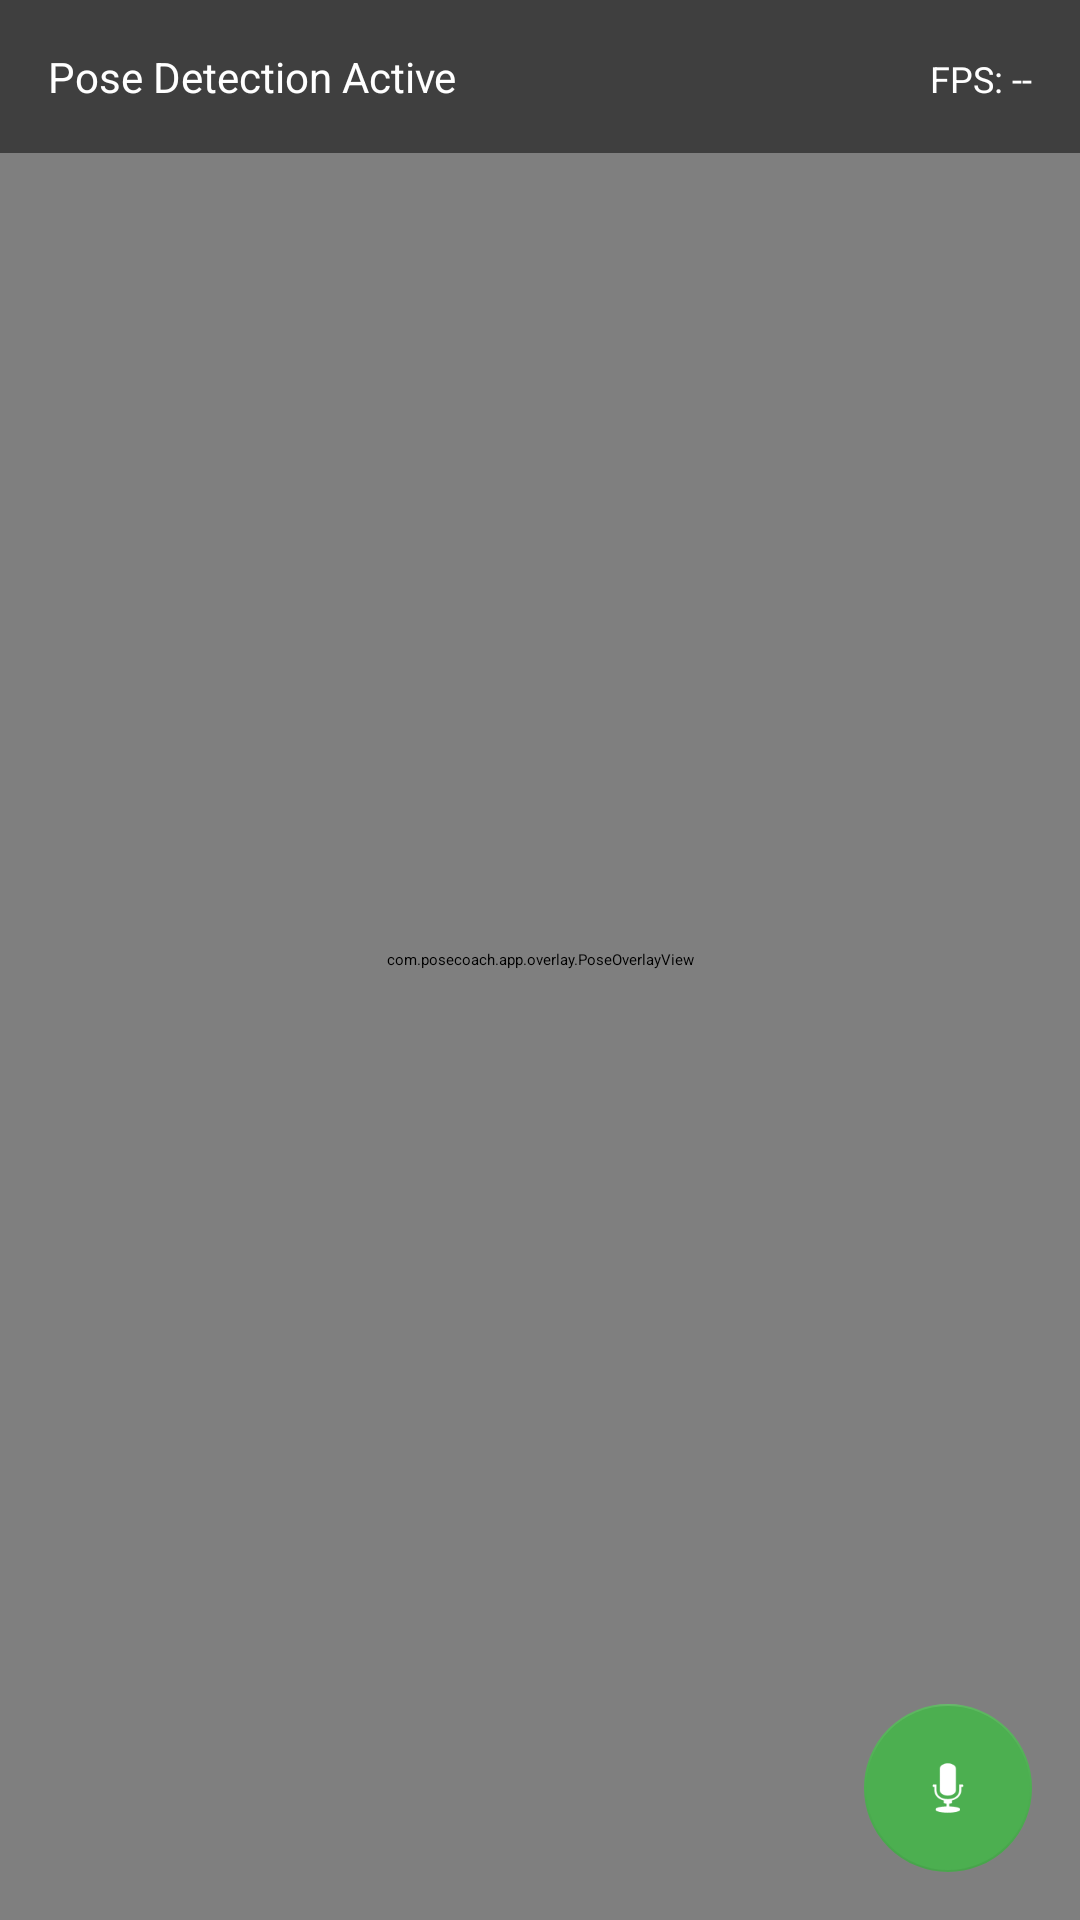

Screen size 1080*1920. Icon name, then its center in pixels as (x=x, y=y):
Toggle Live Coach: (x=948, y=1788)
